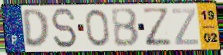B: (110, 7, 141, 49)
D: (21, 8, 51, 50)
O: (84, 9, 111, 48)
S: (50, 8, 79, 50)
Z: (140, 7, 174, 48), (170, 7, 200, 46)
